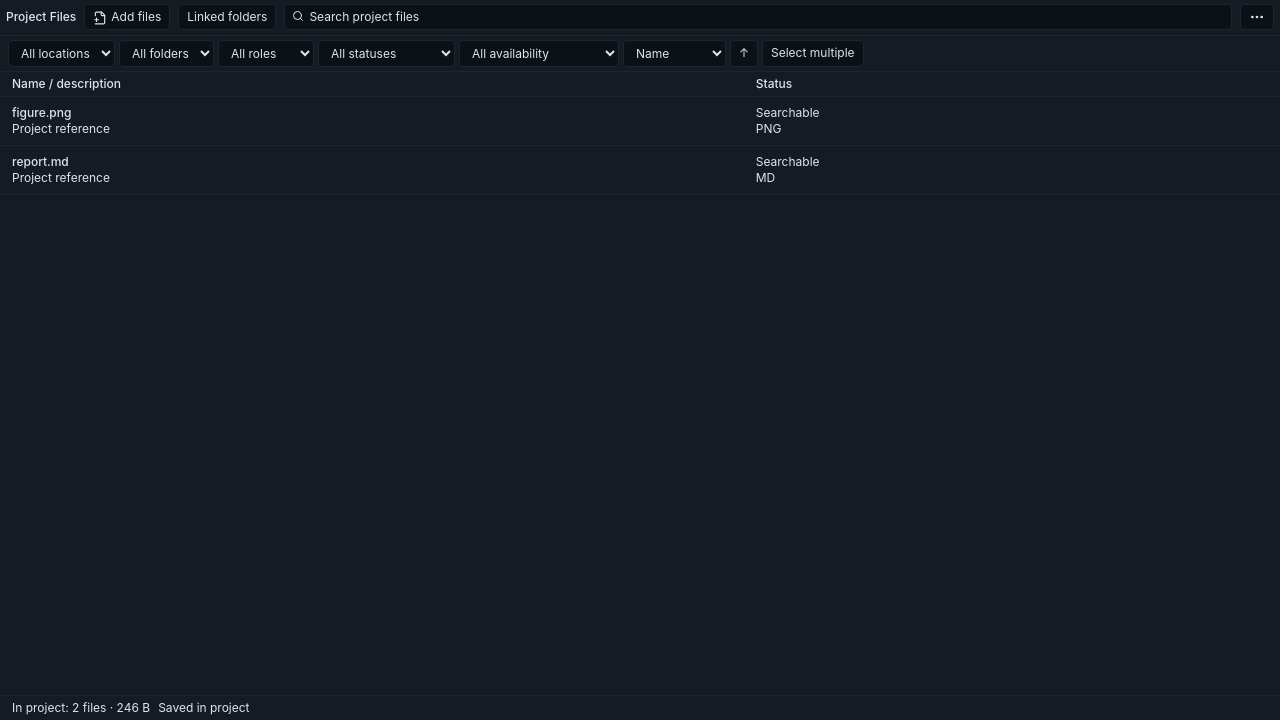
Test: keeps narrow keyboard multi-selection usable before opening details and provides Back navigation
The width and height of the screenshot is (1280, 720).
Press ArrowDown in the list named "Project files", box [0, 96, 1279, 194]
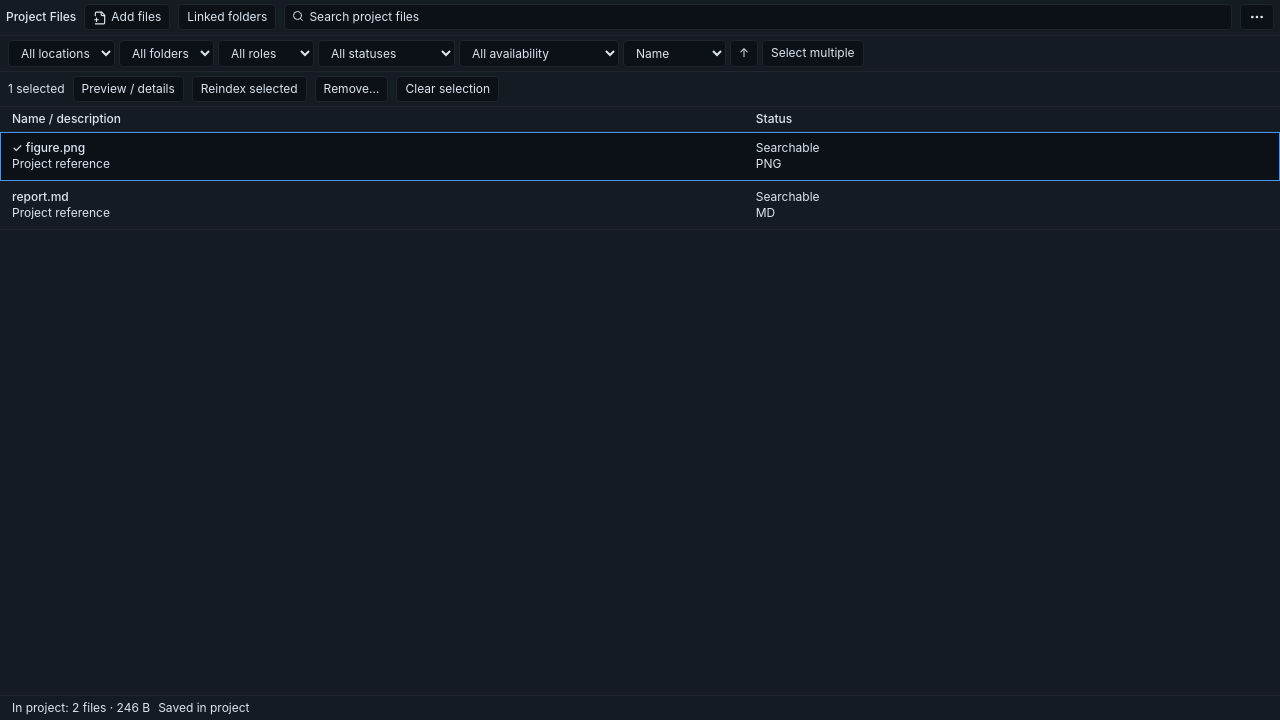
Press ArrowDown in the list named "Project files", box [0, 132, 1279, 230]
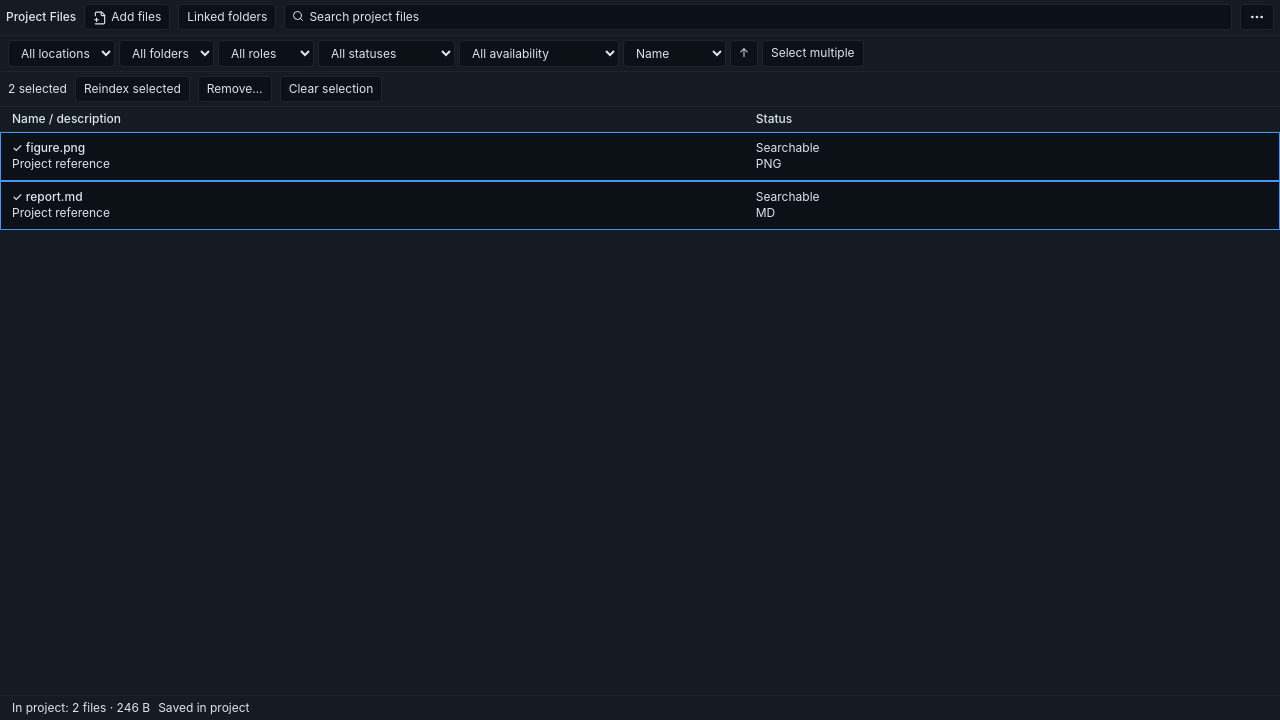
Press Home in the list named "Project files", box [0, 132, 1279, 230]
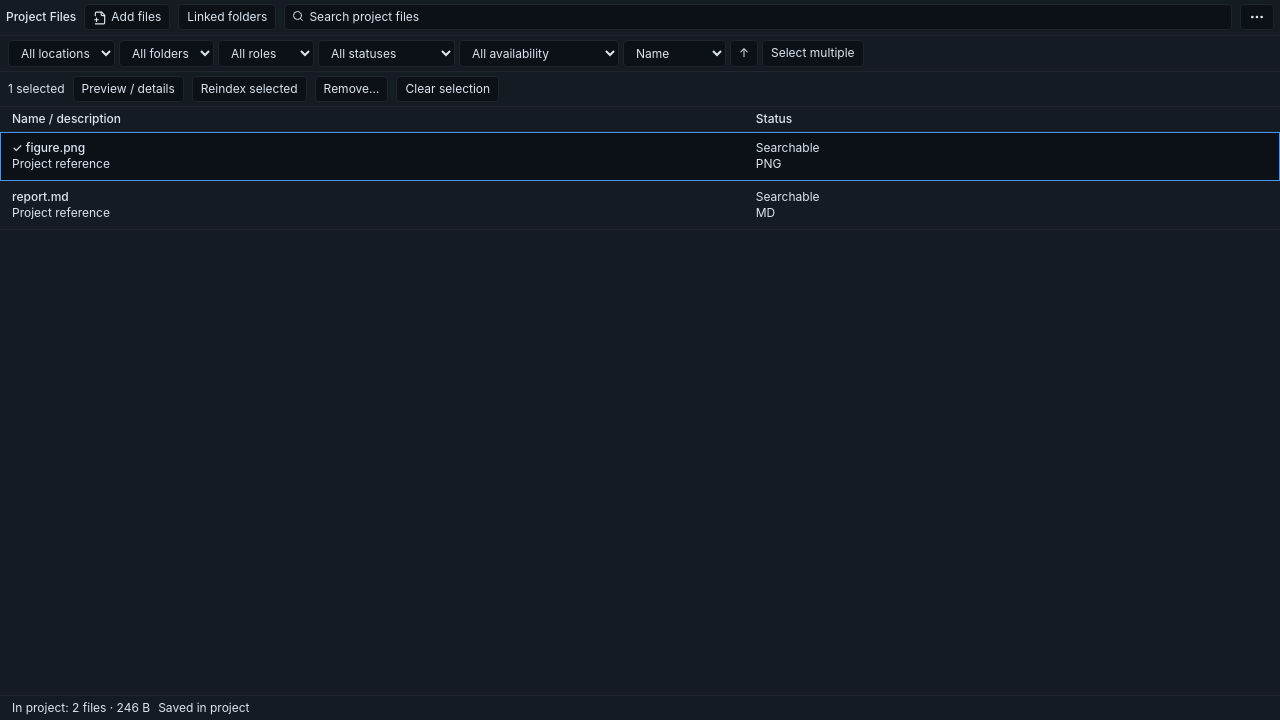
Press Enter in the list named "Project files", box [0, 132, 1279, 230]
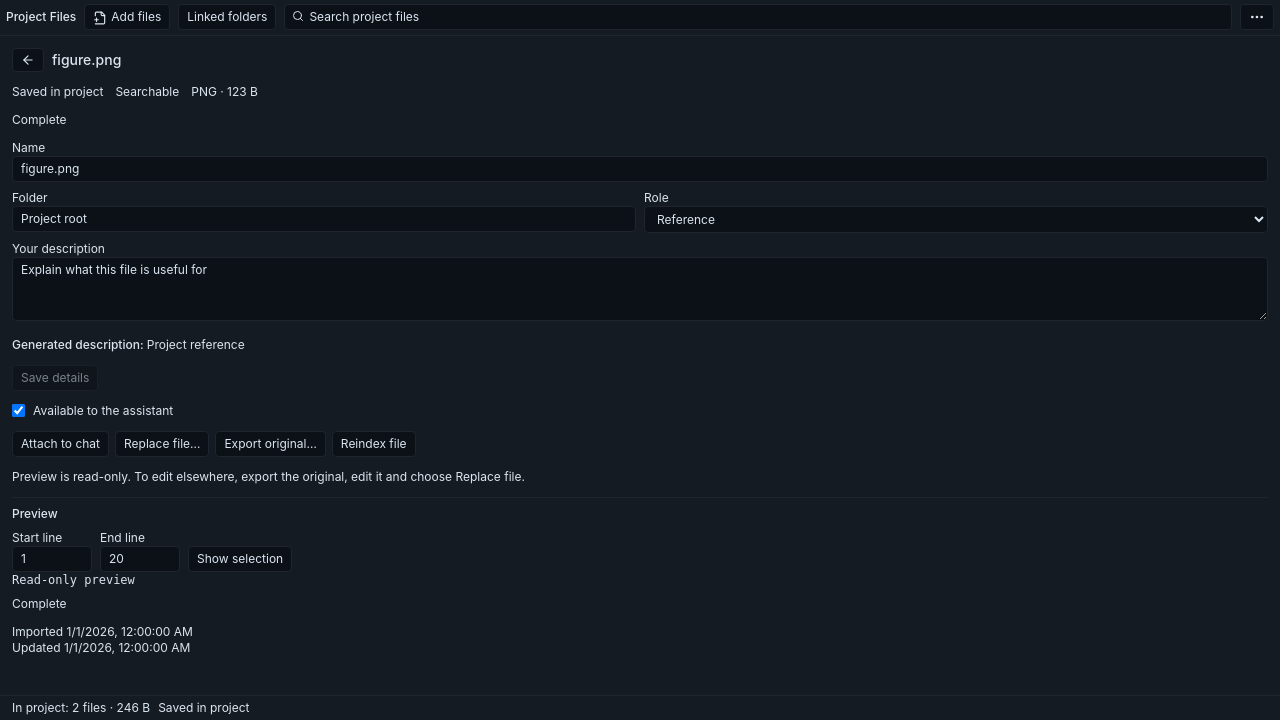
Result: the element named "Details for" is shown
Result: the text "Read-only preview" is shown at [12, 572, 135, 586]
Click the button named "Back to project files": (28, 60) [12, 48, 44, 72]
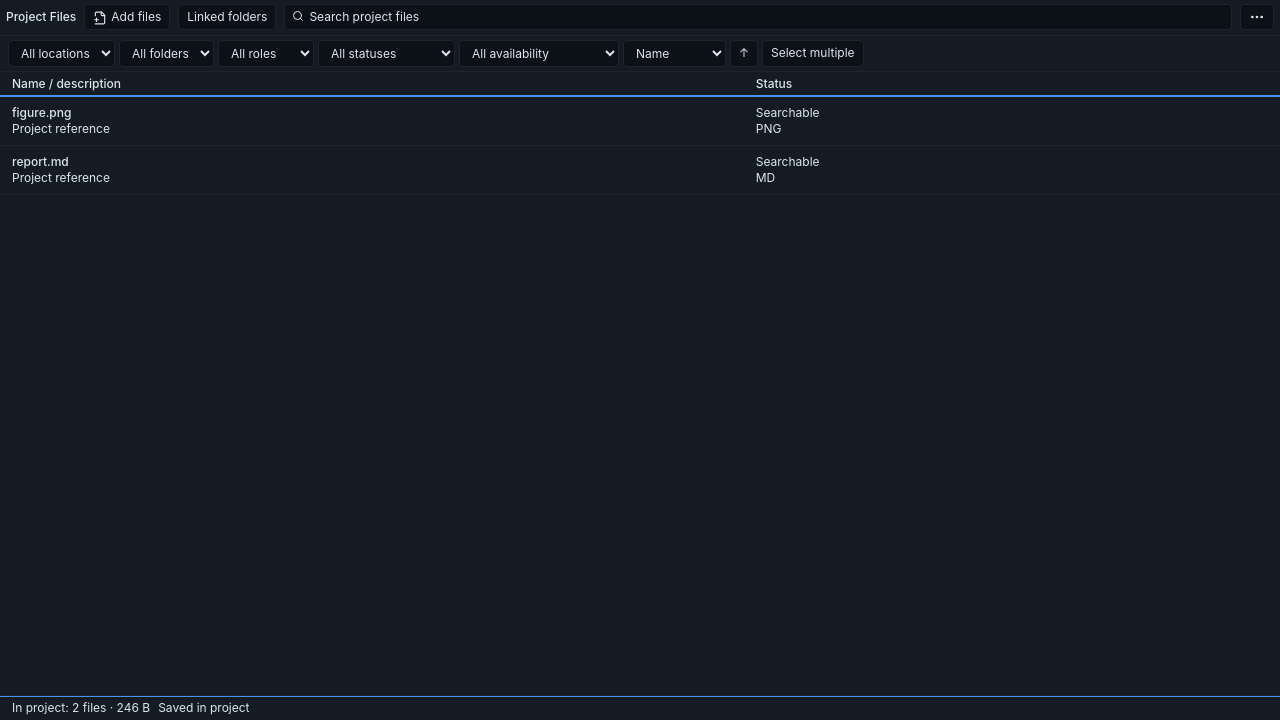
Result: the list named "Project files" is shown at [0, 96, 1279, 194]
